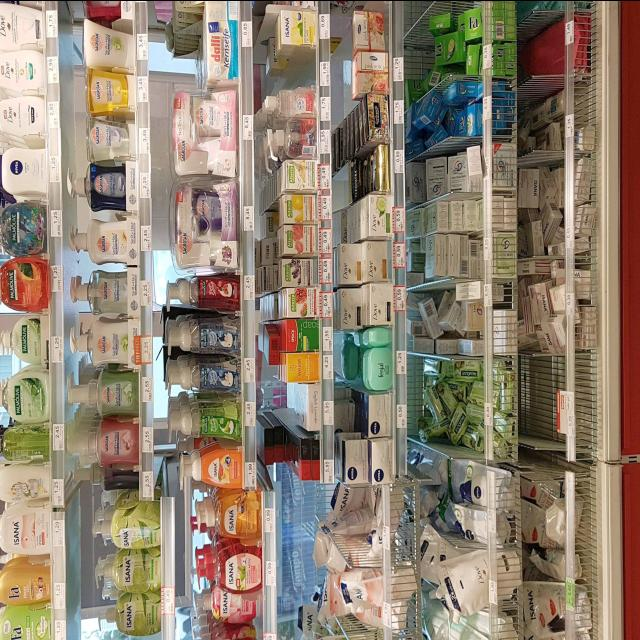empty_space: (527, 370, 561, 438)
